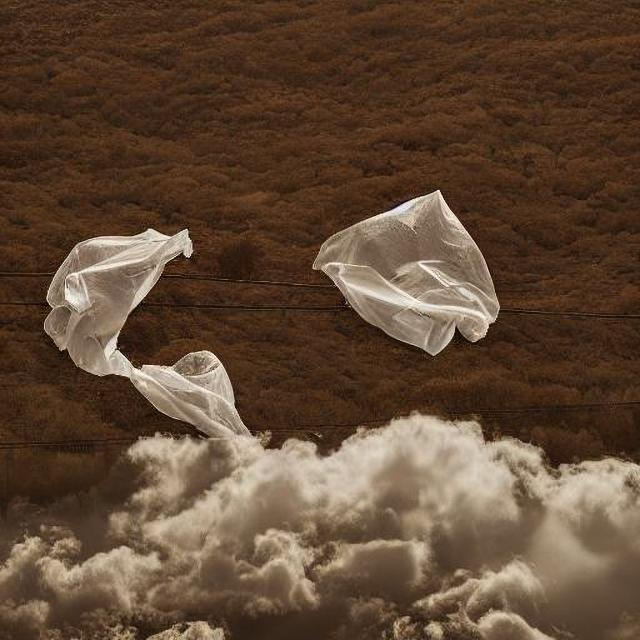plastic bag: (45, 223, 257, 440), (315, 182, 495, 350)
